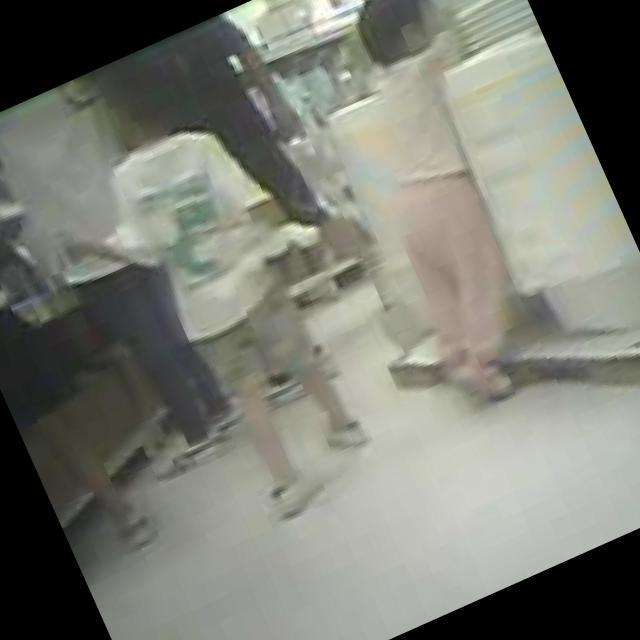person: (11, 67, 394, 564), (278, 0, 601, 420), (72, 5, 374, 368), (0, 74, 251, 493), (0, 122, 170, 567)
